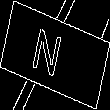N_S: (37, 25, 73, 85)
